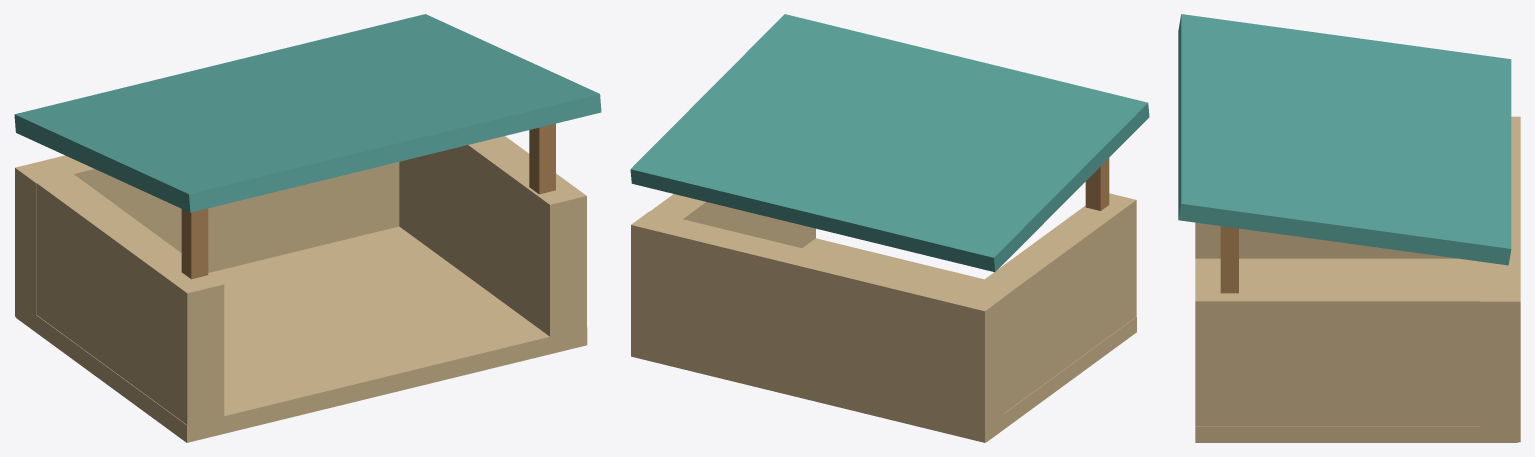
The model's file is ManureStorage.glb.
3 renders of one model, left to right at view 1: azimuth 30°, elevation 25°; view 2: azimuth 150°, elevation 25°; view 3: azimuth 270°, elevation 25°, orthographic. The views are drawn at different scales.
Visible parts, largest first — view 1: hand-pump-static-manure-storage-concrete, hand-pump-static-manure-storage-roof, hand-pump-static-manure-storage-timber; view 2: hand-pump-static-manure-storage-concrete, hand-pump-static-manure-storage-roof, hand-pump-static-manure-storage-timber; view 3: hand-pump-static-manure-storage-roof, hand-pump-static-manure-storage-concrete, hand-pump-static-manure-storage-timber.
Part boxes in pixels (x1,y1,x2,y2): hand-pump-static-manure-storage-concrete: [15, 136, 587, 442]; hand-pump-static-manure-storage-roof: [14, 14, 601, 212]; hand-pump-static-manure-storage-timber: [181, 123, 555, 279]; hand-pump-static-manure-storage-concrete: [631, 193, 1136, 442]; hand-pump-static-manure-storage-roof: [630, 14, 1149, 272]; hand-pump-static-manure-storage-timber: [1085, 158, 1109, 210]; hand-pump-static-manure-storage-roof: [1178, 14, 1511, 265]; hand-pump-static-manure-storage-concrete: [1195, 116, 1520, 442]; hand-pump-static-manure-storage-timber: [1220, 226, 1238, 293].
Size of the model in its own units: 3.9 by 2.32 by 2.97.
